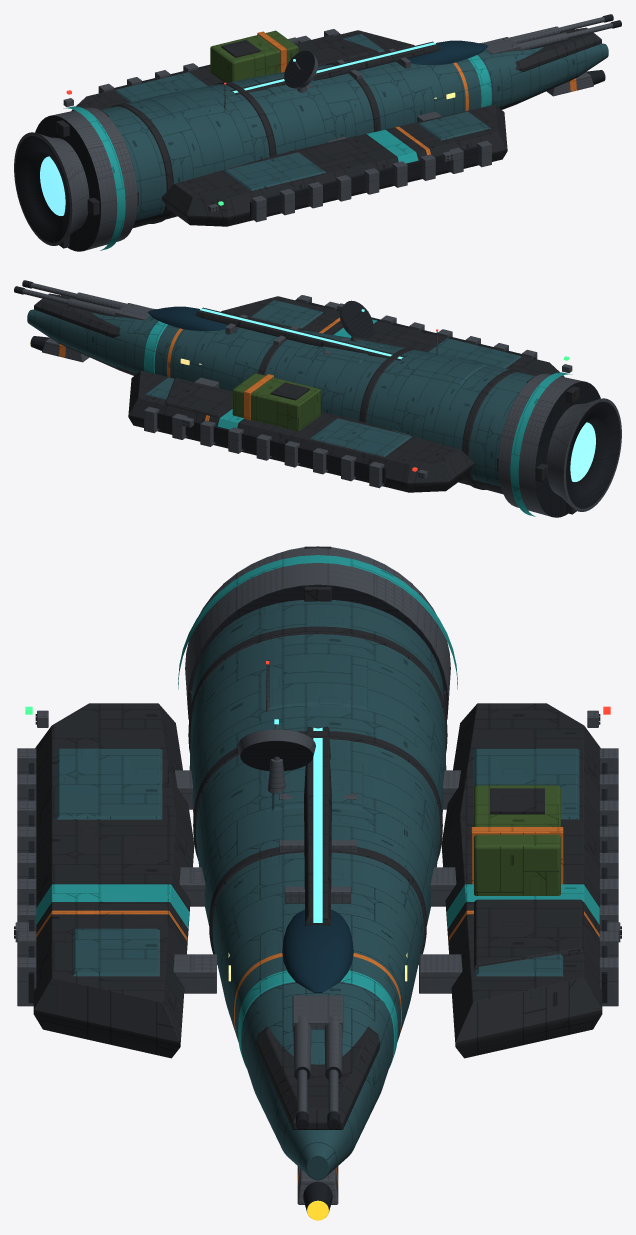
Rendered from kestrel.glb.
The picture shows the model from 3 angles, top to bottom: view 1: azimuth 30°, elevation 25°; view 2: azimuth 150°, elevation 25°; view 3: azimuth 270°, elevation 25°; orthographic projection. The views are drawn at different scales.
Parts seen in each view (by area): view 1: LOD0_Hull, LOD0_Armor, LOD0_Mechanical, LOD0_MechanicalDark, LOD0_Livery, LOD0_HOOK_SECONDARY_POD_Hull_green, LOD0_HOOK_ARMOR_PORT_Armor, LOD0_CANOPY, LOD0_HOOK_DRIVE_CORE, LOD0_MOTION_KESTREL_DISH_STEM_HOOK_SENSOR_DISH_MechanicalDar, LOD0_Lights_Cyan, LOD0_Warning (+1 smaller); view 2: LOD0_Hull, LOD0_Armor, LOD0_Mechanical, LOD0_MechanicalDark, LOD0_HOOK_SECONDARY_POD_Hull_green, LOD0_Livery, LOD0_HOOK_ARMOR_PORT_Armor, LOD0_CANOPY, LOD0_HOOK_DRIVE_CORE, LOD0_MOTION_KESTREL_DISH_STEM_HOOK_SENSOR_DISH_MechanicalDar, LOD0_Lights_Cyan, LOD0_HOOK_SECONDARY_POD_Armor (+2 smaller); view 3: LOD0_Hull, LOD0_Armor, LOD0_Mechanical, LOD0_Livery, LOD0_HOOK_SECONDARY_POD_Hull_green, LOD0_HOOK_ARMOR_PORT_Armor, LOD0_MechanicalDark, LOD0_CANOPY, LOD0_Lights_Cyan, LOD0_MOTION_KESTREL_DISH_STEM_HOOK_SENSOR_DISH_MechanicalDar, LOD0_Warning, LOD0_HOOK_SECONDARY_POD_Armor (+2 smaller).
Part boxes in pixels (x1,y1,x2,y2): LOD0_Hull: (100,34,608,220); LOD0_Armor: (56,27,607,248); LOD0_Mechanical: (14,17,613,250); LOD0_MechanicalDark: (15,14,621,251); LOD0_Livery: (63,55,491,250); LOD0_HOOK_SECONDARY_POD_Hull_green: (210,30,298,81); LOD0_HOOK_ARMOR_PORT_Armor: (295,35,378,66); LOD0_CANOPY: (408,40,488,65); LOD0_HOOK_DRIVE_CORE: (40,156,65,215); LOD0_MOTION_KESTREL_DISH_STEM_HOOK_SENSOR_DISH_MechanicalDar: (284,50,314,87); LOD0_Lights_Cyan: (232,42,435,93); LOD0_Warning: (395,62,576,154); LOD0_Hull: (27,300,535,486); LOD0_Armor: (28,293,579,514); LOD0_Mechanical: (22,283,621,516); LOD0_MechanicalDark: (14,280,620,517); LOD0_HOOK_SECONDARY_POD_Hull_green: (232,373,320,431); LOD0_Livery: (144,319,572,516); LOD0_HOOK_ARMOR_PORT_Armor: (164,378,232,417); LOD0_CANOPY: (147,306,227,331); LOD0_HOOK_DRIVE_CORE: (570,422,595,481); LOD0_MOTION_KESTREL_DISH_STEM_HOOK_SENSOR_DISH_MechanicalDar: (342,300,373,337); LOD0_Lights_Cyan: (200,308,403,359); LOD0_HOOK_SECONDARY_POD_Armor: (270,382,309,400); LOD0_Hull: (56,600,579,1180); LOD0_Armor: (33,546,602,1176); LOD0_Mechanical: (15,546,620,1204); LOD0_Livery: (36,555,599,1068); LOD0_HOOK_SECONDARY_POD_Hull_green: (474,785,560,895); LOD0_HOOK_ARMOR_PORT_Armor: (474,899,583,970); LOD0_MechanicalDark: (14,584,621,1212); LOD0_CANOPY: (282,909,353,992); LOD0_Lights_Cyan: (313,727,322,922); LOD0_MOTION_KESTREL_DISH_STEM_HOOK_SENSOR_DISH_MechanicalDar: (240,729,313,771); LOD0_Warning: (36,910,599,1185); LOD0_HOOK_SECONDARY_POD_Armor: (490,788,544,814).
Size of what is drawn, in the model's own units: 27.52 by 6.82 by 13.26.
Materials: 15 (8 with a texture image).
